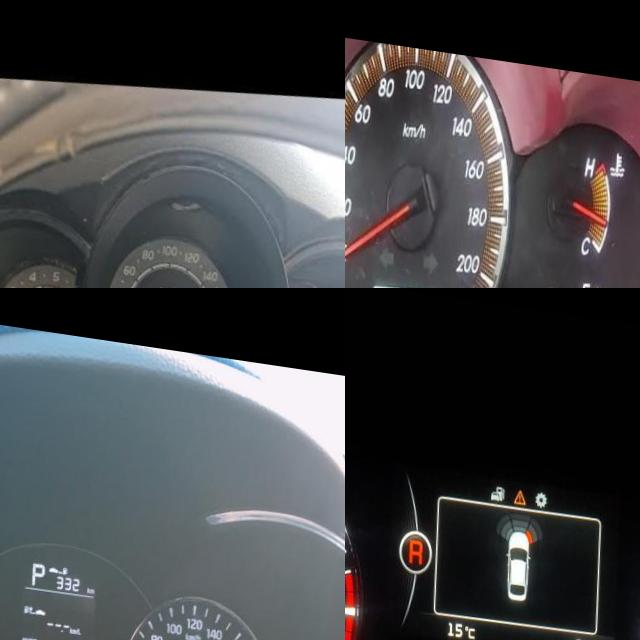Central Warning lamp: (515, 477, 528, 494)
